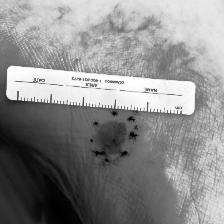Potentially Malignant Skin Tumors: (96, 120, 127, 154)
